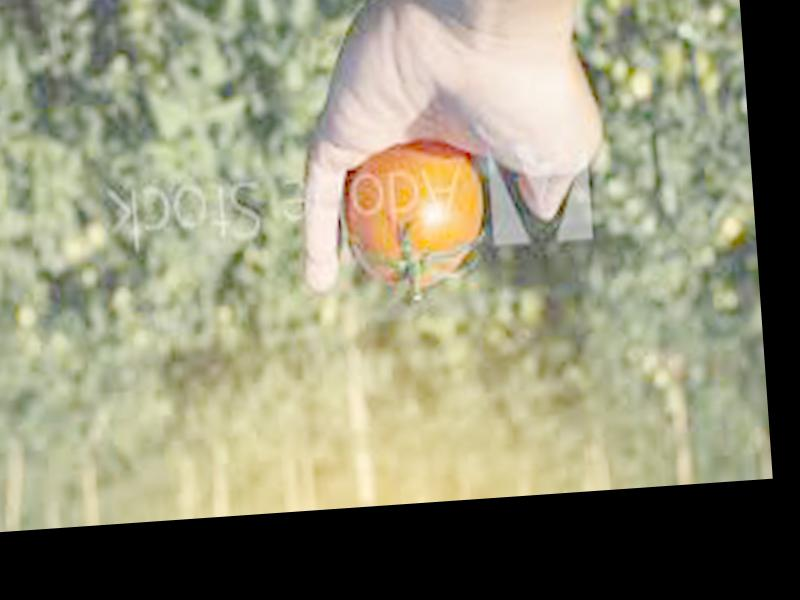Tomato: (338, 143, 484, 290)
